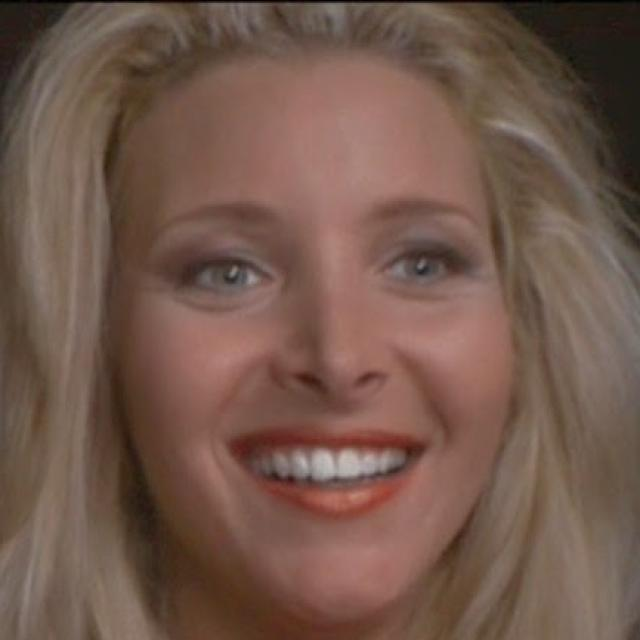Normal: (103, 41, 519, 629)
